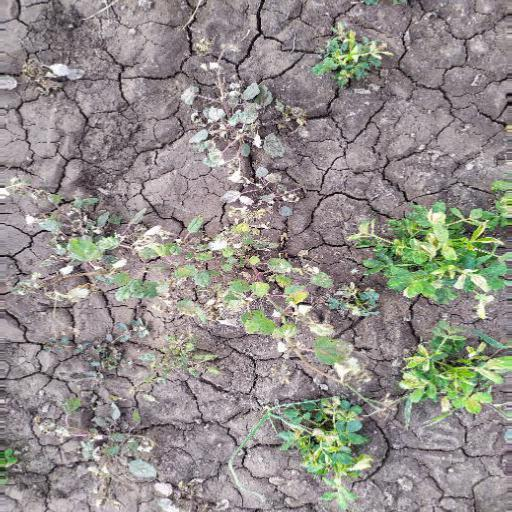weed: (38, 196, 503, 494), (168, 39, 387, 182)
